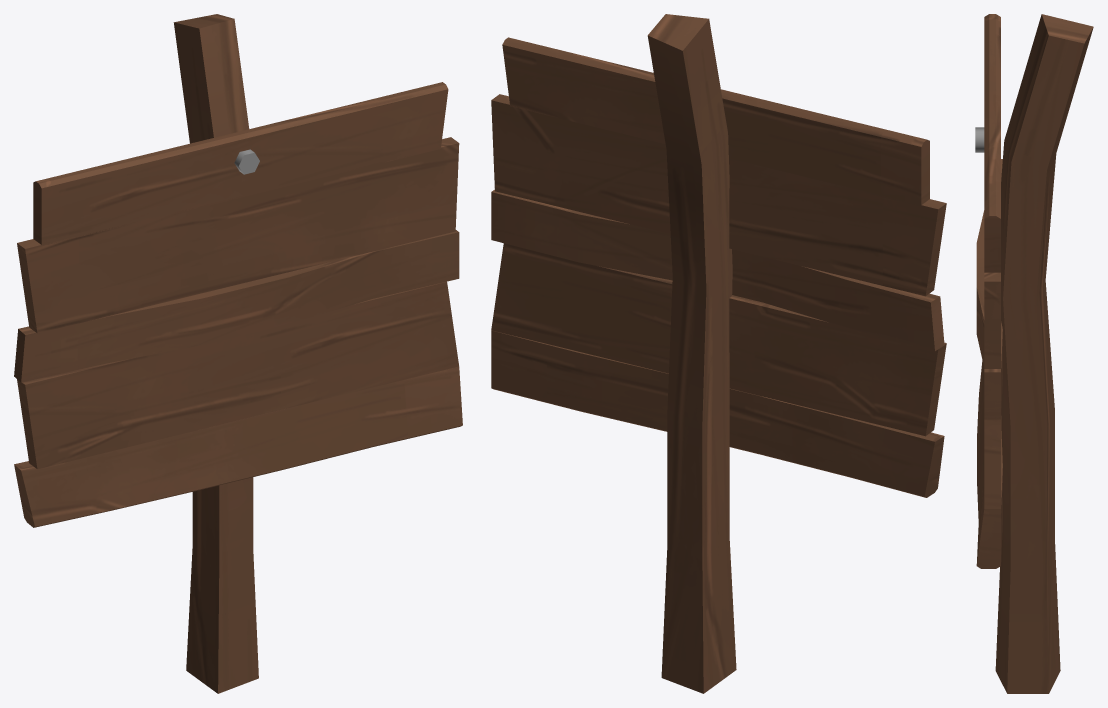
Rendered from Tutorial_Sign_2.FBX.
The picture shows the model from 3 angles, left to right: view 1: azimuth 30°, elevation 25°; view 2: azimuth 150°, elevation 25°; view 3: azimuth 270°, elevation 25°; orthographic projection. The views are drawn at different scales.
Visible parts, largest first — view 1: Box564; view 2: Box564; view 3: Box564.
Boxes of the visible parts, x1,y1,x2,y2 form: Box564: (14, 14, 462, 693); Box564: (491, 14, 946, 693); Box564: (975, 14, 1093, 693).
Size of the model in its own units: 14.02 by 3.25 by 19.95.
